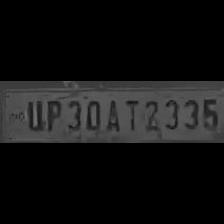0: (82, 97, 102, 131)
2: (141, 97, 161, 133)
3: (62, 96, 82, 132), (160, 96, 180, 132), (180, 96, 198, 130)
5: (198, 96, 220, 130)
A: (101, 96, 121, 134)
P: (44, 96, 60, 132)
T: (122, 96, 140, 134)
U: (22, 97, 44, 131)
